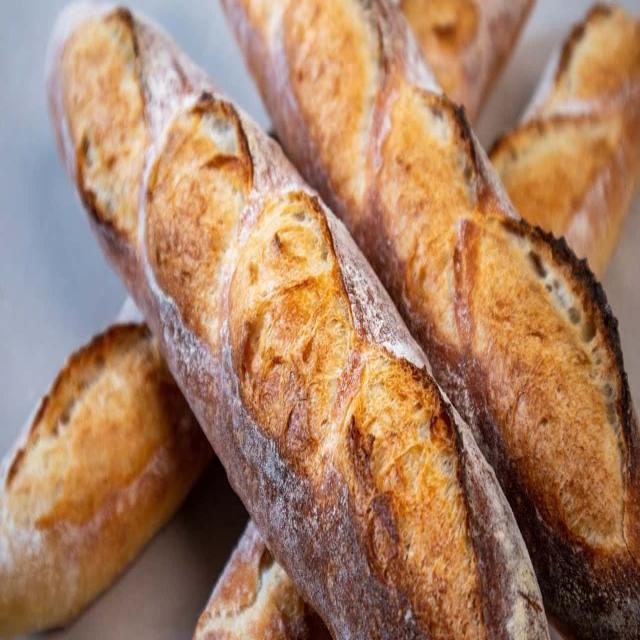Baguette: (46, 2, 549, 639), (222, 0, 640, 639)
